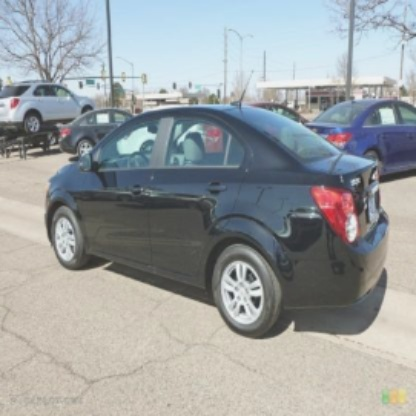Vehicle: (40, 65, 393, 342)
